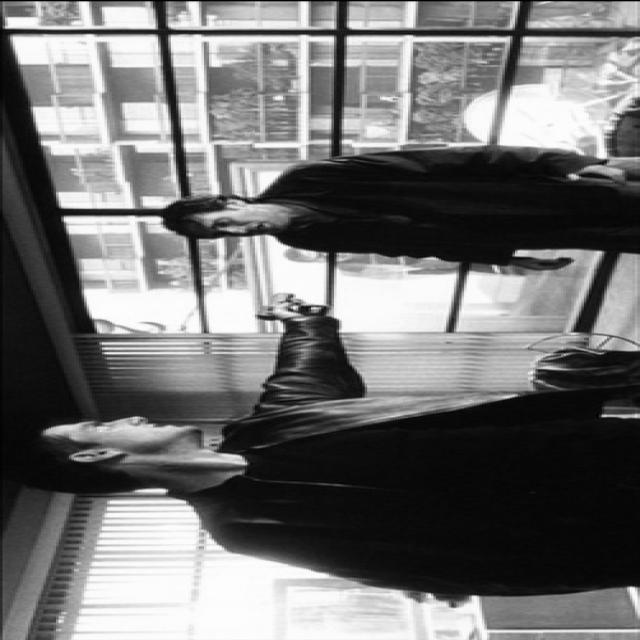weapons: (224, 276, 366, 338)
